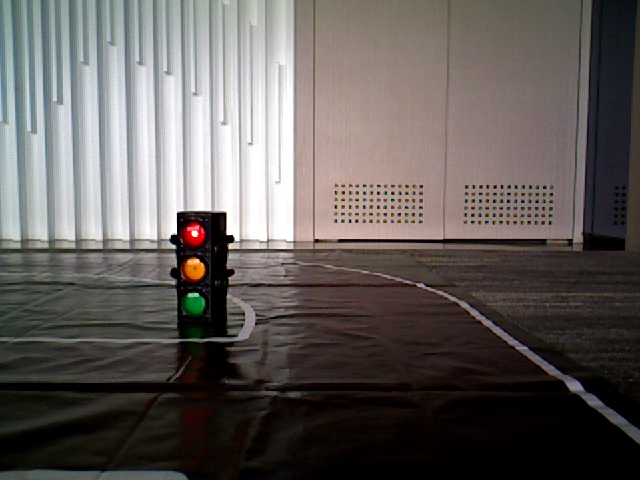red: (179, 214, 218, 322)
